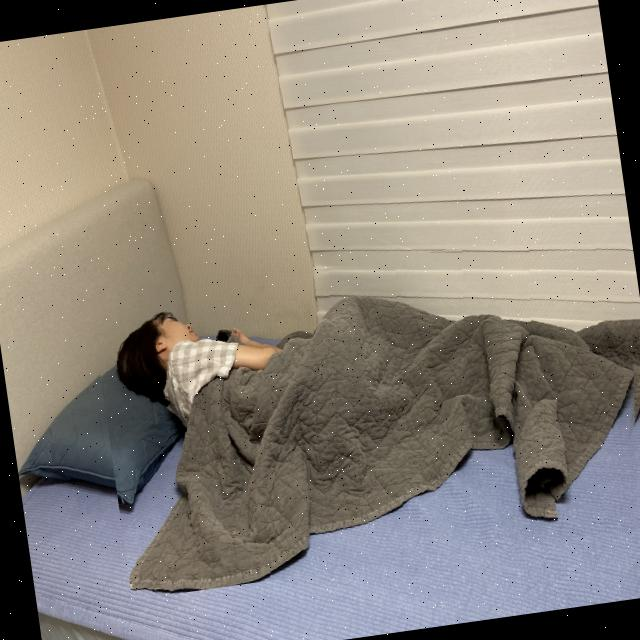people: (89, 221, 640, 600)
